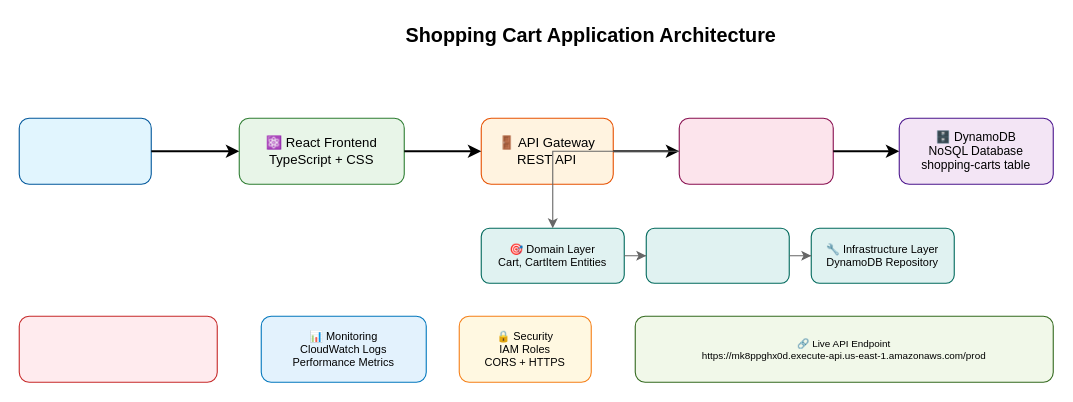
The diagram is 1073 pixels wide and 402 high, and some of its shapes have lost their labels. Here are the shapes that lost their labels. From the top down, the box of each, then its label:
(18, 117, 151, 184): 👤 User
(678, 117, 833, 184): ⚡ AWS Lambda Python 3.12 Clean Architecture
(645, 227, 789, 283): ⚙️ Application Layer AddItemToCart Use Case
(18, 315, 217, 382): 🧪 Testing 29 Tests (100% Coverage) Unit + Integration + API
